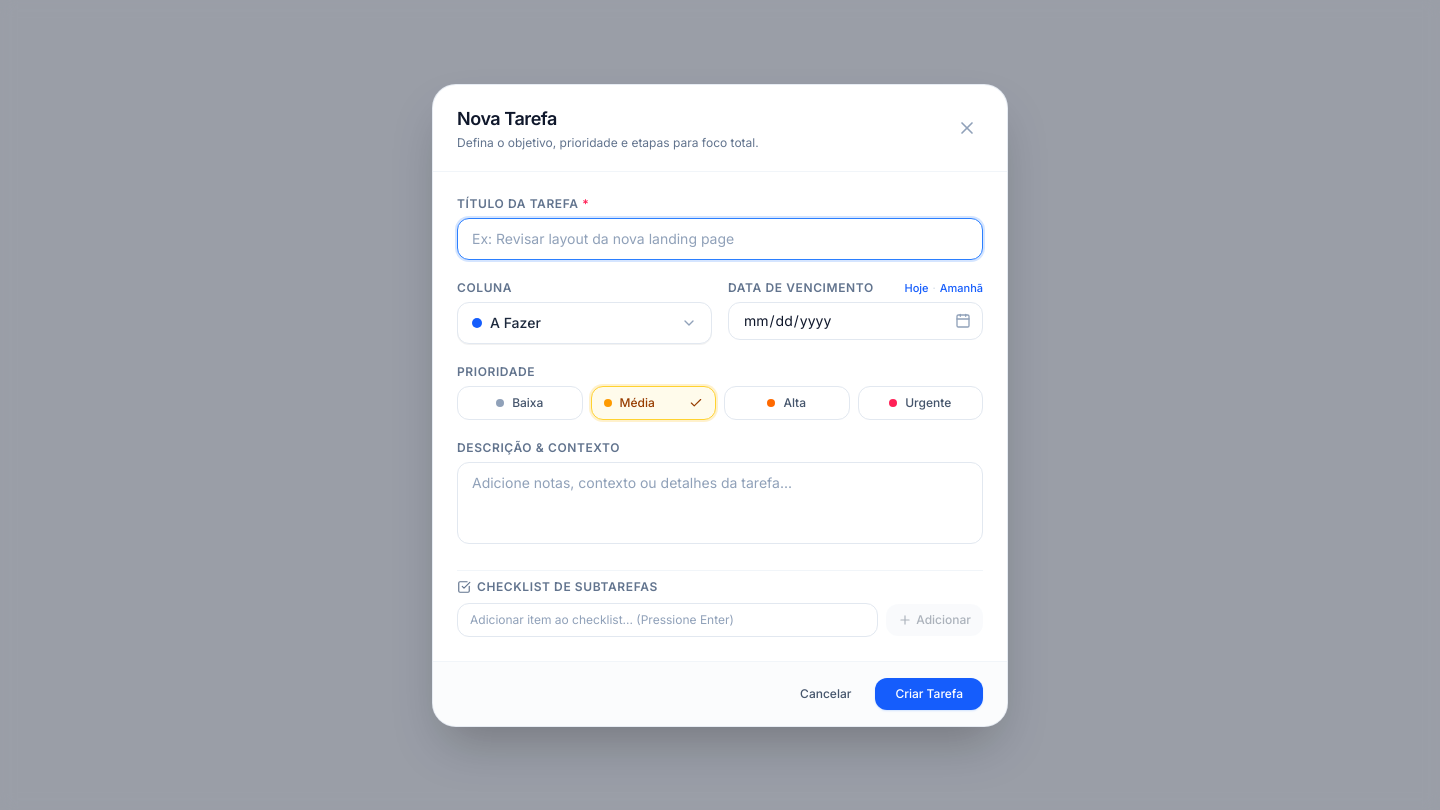
TaskModal › exibe diálogo de confirmação ao tentar fechar via botão X com alterações não salvas
Type "Nova Tarefa Incompleta" into the field with placeholder "Ex: Revisar layout da nova landing page" at [720, 238], box left=457, top=218, right=983, bottom=260
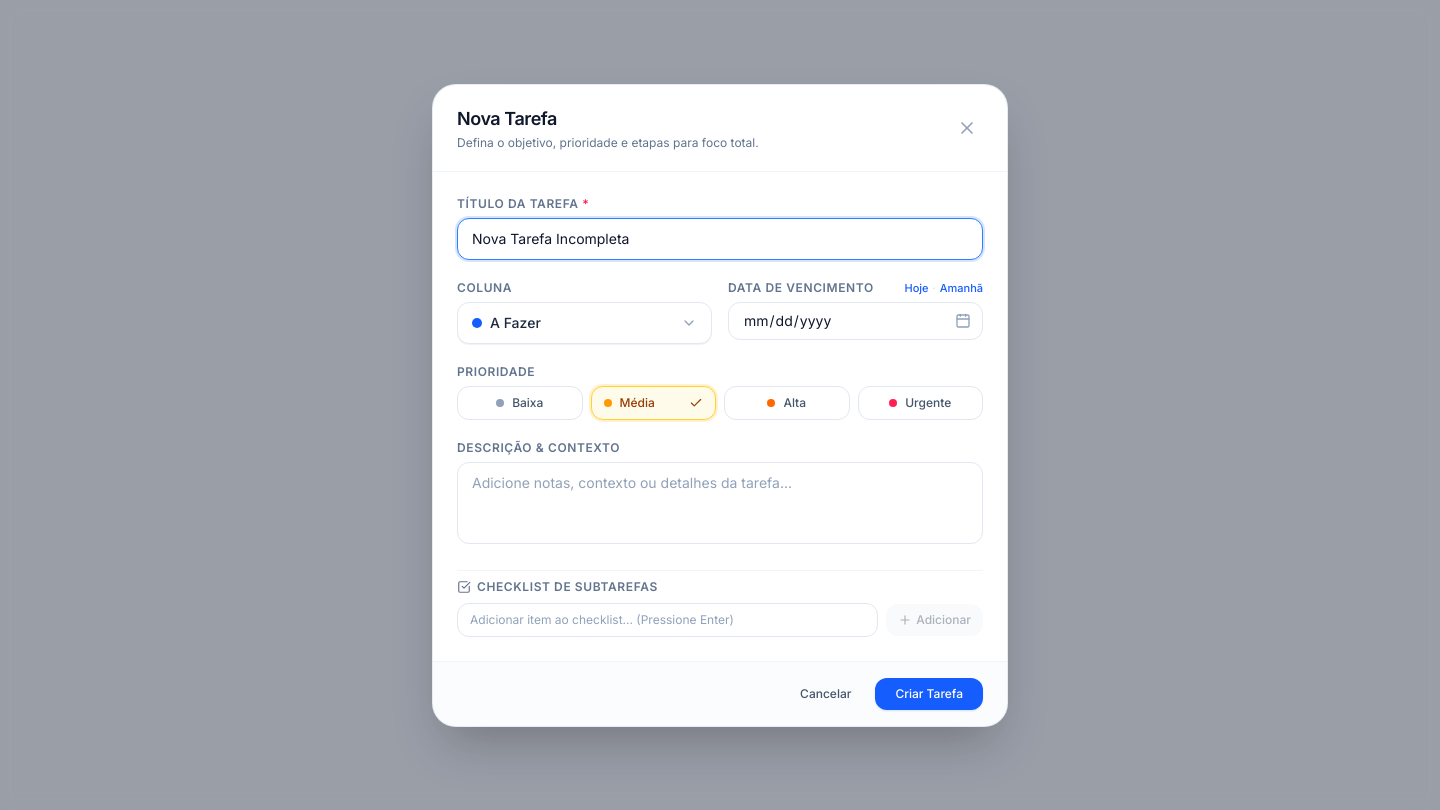
Note: Clica no botão X
Click the button named "Fechar modal" at [967, 128], box left=951, top=112, right=983, bottom=144
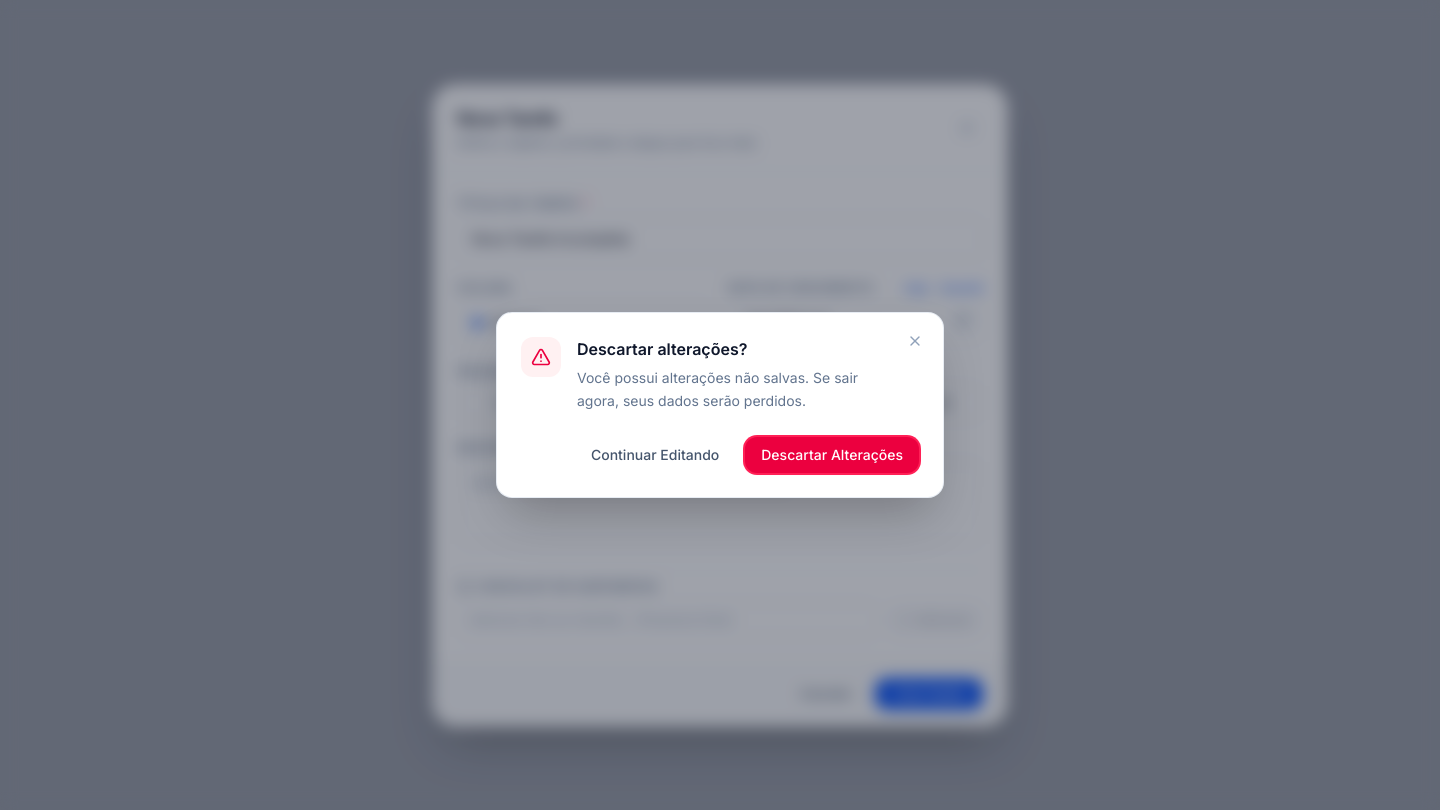
Expected: the heading "Descartar alterações?" is shown, left=577, top=339, right=747, bottom=359
Expected: the text "Você possui alterações não salvas. Se sair agora, seus dados serão perdidos." is shown, left=577, top=367, right=903, bottom=413
Expected: the button "Continuar Editando" is shown, left=575, top=437, right=735, bottom=473
